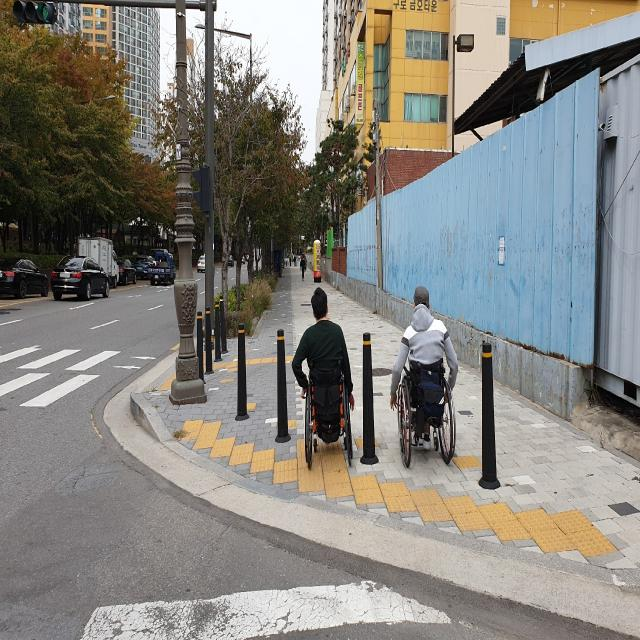횡단보도: (79, 576, 453, 640), (0, 332, 159, 414)
